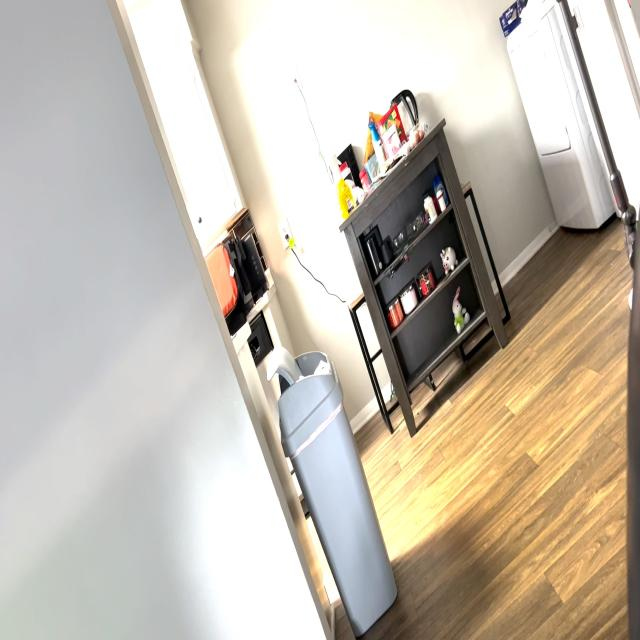drone: (375, 233, 418, 287)
